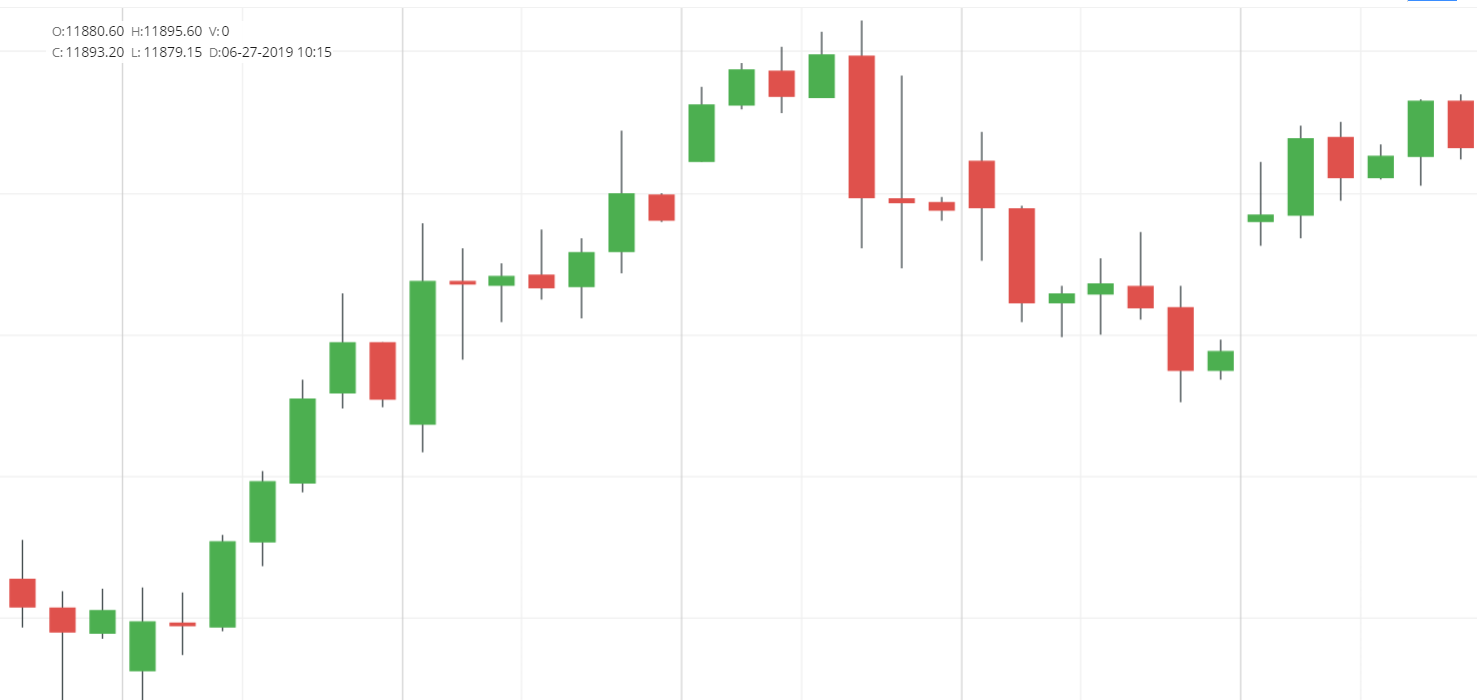doji: (884, 53, 918, 272), (442, 236, 481, 364), (1239, 142, 1279, 255), (521, 216, 560, 318), (161, 580, 203, 661), (1048, 260, 1078, 350), (484, 250, 516, 329)
